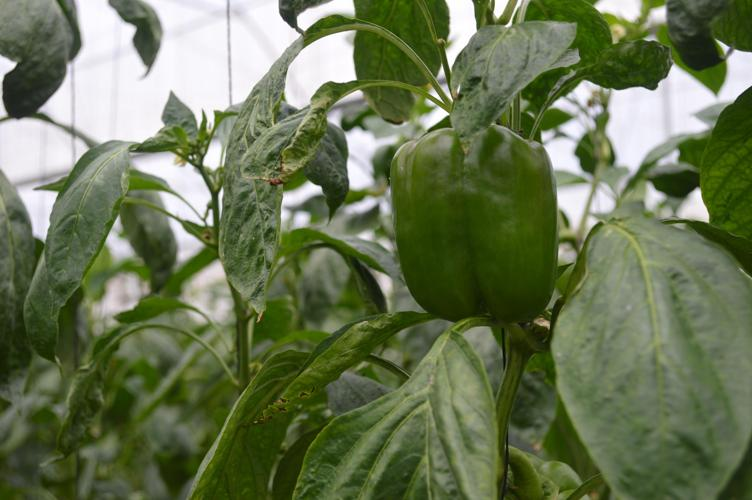BellPepper: (391, 124, 560, 330)
